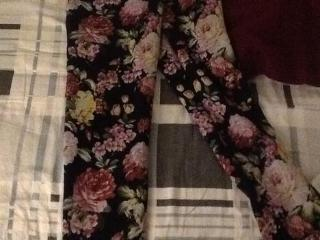trousers: (62, 0, 319, 239)
